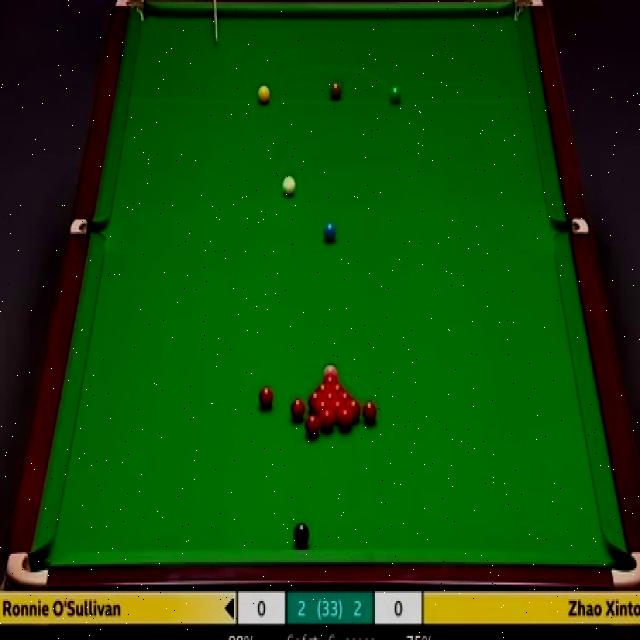black-ball: (293, 519, 310, 548)
blue-ball: (322, 220, 337, 245)
brown-ball: (329, 82, 341, 100)
green-ball: (389, 85, 402, 104)
pink-ball: (323, 362, 339, 374)
red-ball: (258, 387, 276, 412), (304, 414, 321, 440), (289, 397, 305, 424), (363, 398, 378, 423), (346, 399, 362, 422), (338, 408, 354, 430), (320, 409, 334, 433), (315, 398, 331, 419), (330, 399, 346, 419), (329, 383, 347, 397), (322, 373, 339, 383), (308, 391, 322, 403), (321, 391, 336, 401), (314, 383, 330, 392), (338, 392, 352, 401)
white-ball: (280, 173, 298, 197)
yellow-ball: (257, 83, 271, 105)
